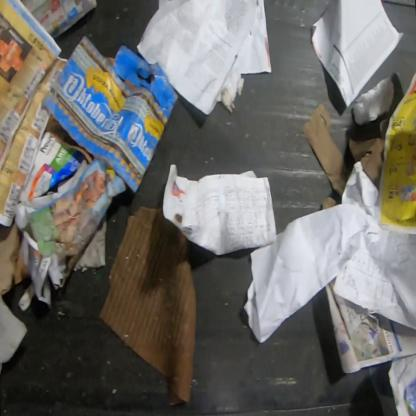cardboard: (41, 35, 178, 195), (100, 207, 196, 401), (300, 102, 385, 200), (18, 130, 82, 206), (0, 220, 28, 295)
